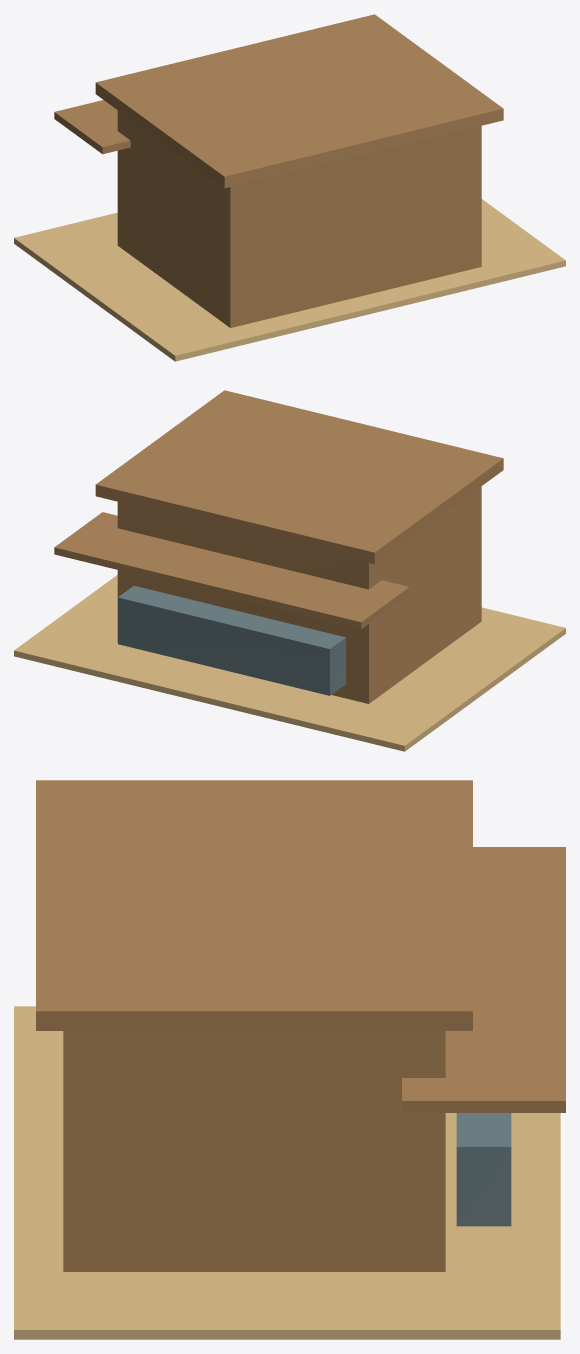
File: Caravan-trading-post.glb
The picture shows the model from 3 angles, top to bottom: view 1: azimuth 30°, elevation 25°; view 2: azimuth 150°, elevation 25°; view 3: azimuth 270°, elevation 25°; orthographic projection. The views are drawn at different scales.
Parts seen in each view (by area): view 1: caravan-trading-post-static-caravan-timber, caravan-trading-post-static-caravan-teal, caravan-trading-post-static-caravan-earth, caravan-trading-post-static-caravan-awning; view 2: caravan-trading-post-static-caravan-teal, caravan-trading-post-static-caravan-earth, caravan-trading-post-static-caravan-timber, caravan-trading-post-static-caravan-metal, caravan-trading-post-static-caravan-awning; view 3: caravan-trading-post-static-caravan-teal, caravan-trading-post-static-caravan-timber, caravan-trading-post-static-caravan-earth, caravan-trading-post-static-caravan-awning, caravan-trading-post-static-caravan-metal.
Boxes of the visible parts, x1=… form: caravan-trading-post-static-caravan-timber: x1=117, y1=110, x2=481, y2=327; caravan-trading-post-static-caravan-teal: x1=95, y1=14, x2=503, y2=188; caravan-trading-post-static-caravan-earth: x1=14, y1=199, x2=565, y2=361; caravan-trading-post-static-caravan-awning: x1=54, y1=100, x2=130, y2=154; caravan-trading-post-static-caravan-teal: x1=95, y1=390, x2=503, y2=564; caravan-trading-post-static-caravan-earth: x1=14, y1=575, x2=565, y2=751; caravan-trading-post-static-caravan-timber: x1=117, y1=486, x2=481, y2=703; caravan-trading-post-static-caravan-metal: x1=118, y1=585, x2=345, y2=695; caravan-trading-post-static-caravan-awning: x1=54, y1=512, x2=409, y2=629; caravan-trading-post-static-caravan-teal: x1=36, y1=780, x2=472, y2=1030; caravan-trading-post-static-caravan-timber: x1=63, y1=1031, x2=445, y2=1271; caravan-trading-post-static-caravan-earth: x1=14, y1=1006, x2=560, y2=1339; caravan-trading-post-static-caravan-awning: x1=402, y1=847, x2=565, y2=1112; caravan-trading-post-static-caravan-metal: x1=456, y1=1113, x2=511, y2=1226.
Bounding box in the file's own units: 7 × 2.85 × 5.05.
